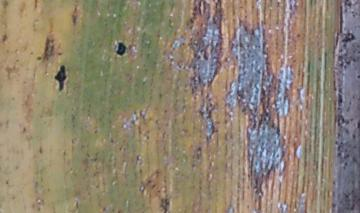tarspot: (53, 64, 69, 91), (42, 35, 57, 60), (158, 195, 170, 213), (114, 41, 126, 57), (340, 32, 356, 43), (70, 6, 79, 25), (195, 145, 203, 159), (1, 33, 10, 42), (37, 143, 44, 154), (55, 50, 64, 57), (337, 95, 343, 105), (21, 126, 28, 134), (33, 1, 39, 10), (108, 137, 115, 144), (295, 32, 302, 39), (316, 55, 323, 62), (35, 55, 43, 61), (357, 120, 360, 129), (357, 73, 360, 81)
